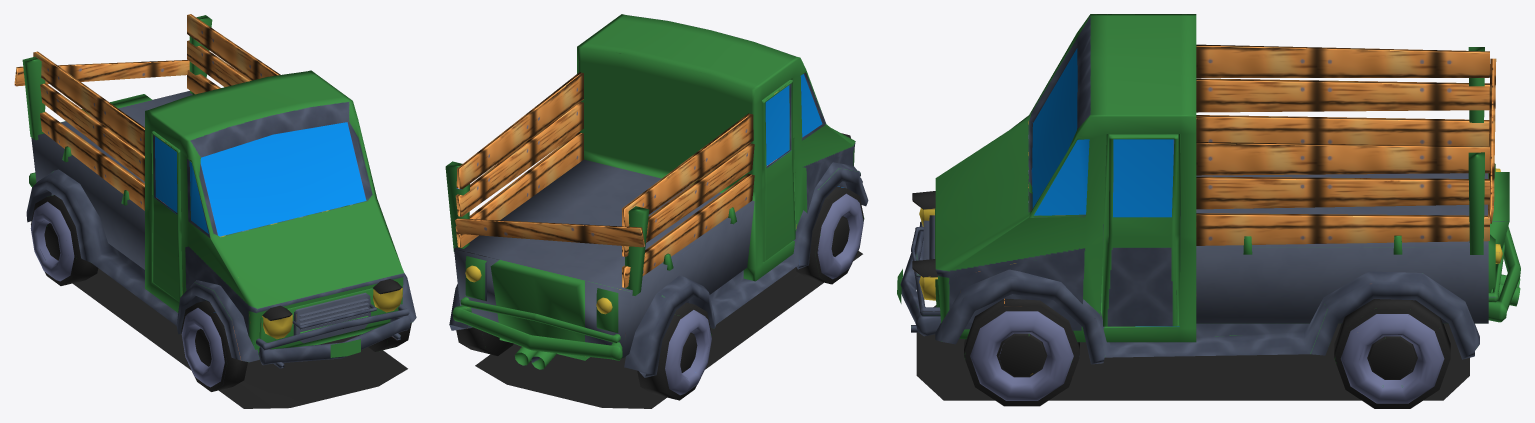
Rendered from Van.obj.
The picture shows the model from 3 angles, left to right: view 1: azimuth 30°, elevation 25°; view 2: azimuth 150°, elevation 25°; view 3: azimuth 270°, elevation 25°; orthographic projection. The views are drawn at different scales.
Parts seen in each view (by area): view 1: Van1:pPlane5; view 2: Van1:pPlane5; view 3: Van1:pPlane5.
Boxes of the visible parts, bbox=[...] form: Van1:pPlane5: bbox=[14, 14, 416, 408]; Van1:pPlane5: bbox=[445, 14, 868, 408]; Van1:pPlane5: bbox=[897, 14, 1520, 408].
Size of the model in its own units: 2.8 by 2.96 by 5.74.
1 material, 1 textured.
